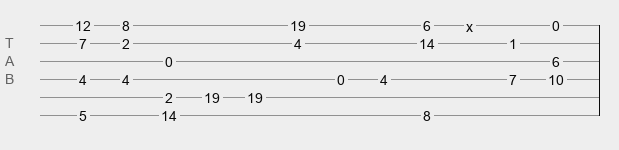0: (165, 54, 173, 64), (337, 72, 345, 82), (552, 18, 560, 28)
1: (509, 36, 517, 46)
10: (548, 72, 564, 82)
12: (75, 18, 91, 28)
14: (161, 108, 177, 118), (419, 36, 435, 46)
19: (204, 90, 220, 100), (247, 90, 263, 100), (290, 18, 306, 28)
2: (122, 36, 130, 46), (165, 90, 173, 100)
4: (79, 72, 87, 82), (122, 72, 130, 82), (294, 36, 302, 46), (380, 72, 388, 82)
5: (79, 108, 87, 118)
6: (423, 18, 431, 28), (552, 54, 560, 64)
7: (79, 36, 87, 46), (509, 72, 517, 82)
8: (122, 18, 130, 28), (423, 108, 431, 118)
x: (466, 19, 473, 27)
